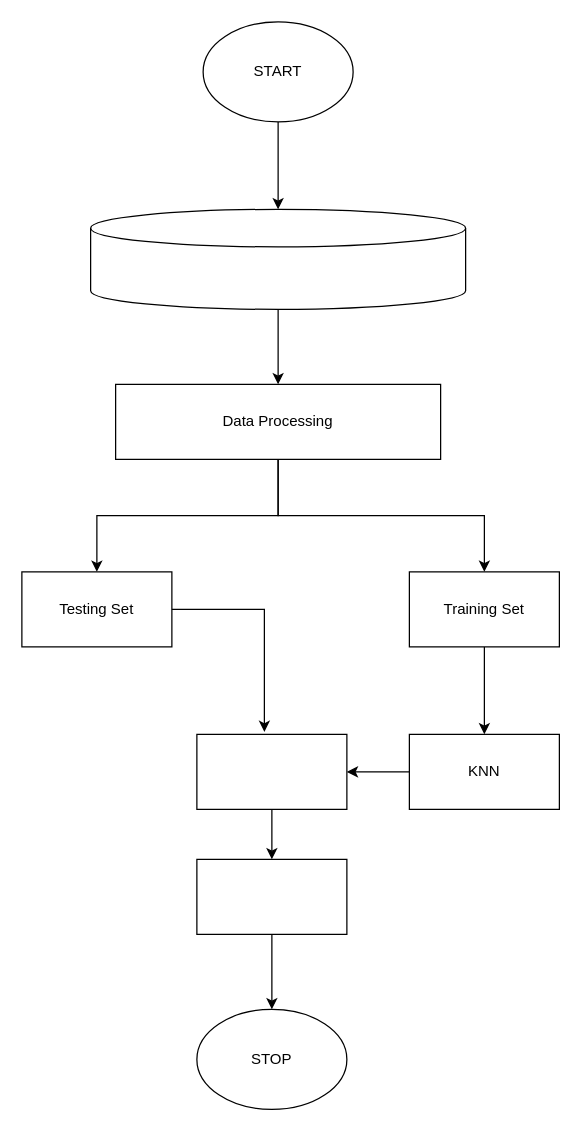
Some shapes in this 581 by 1131 pixel diagram are drawn without their labels. Each missing label, with the centre of its shape:
Data Collection: the point at 277,258
Model: the point at 271,771
Prediction: the point at 271,896
